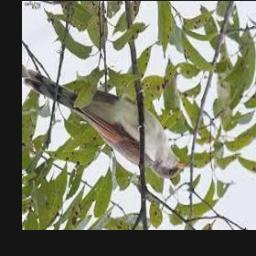Cuckoo: (25, 69, 194, 179)
